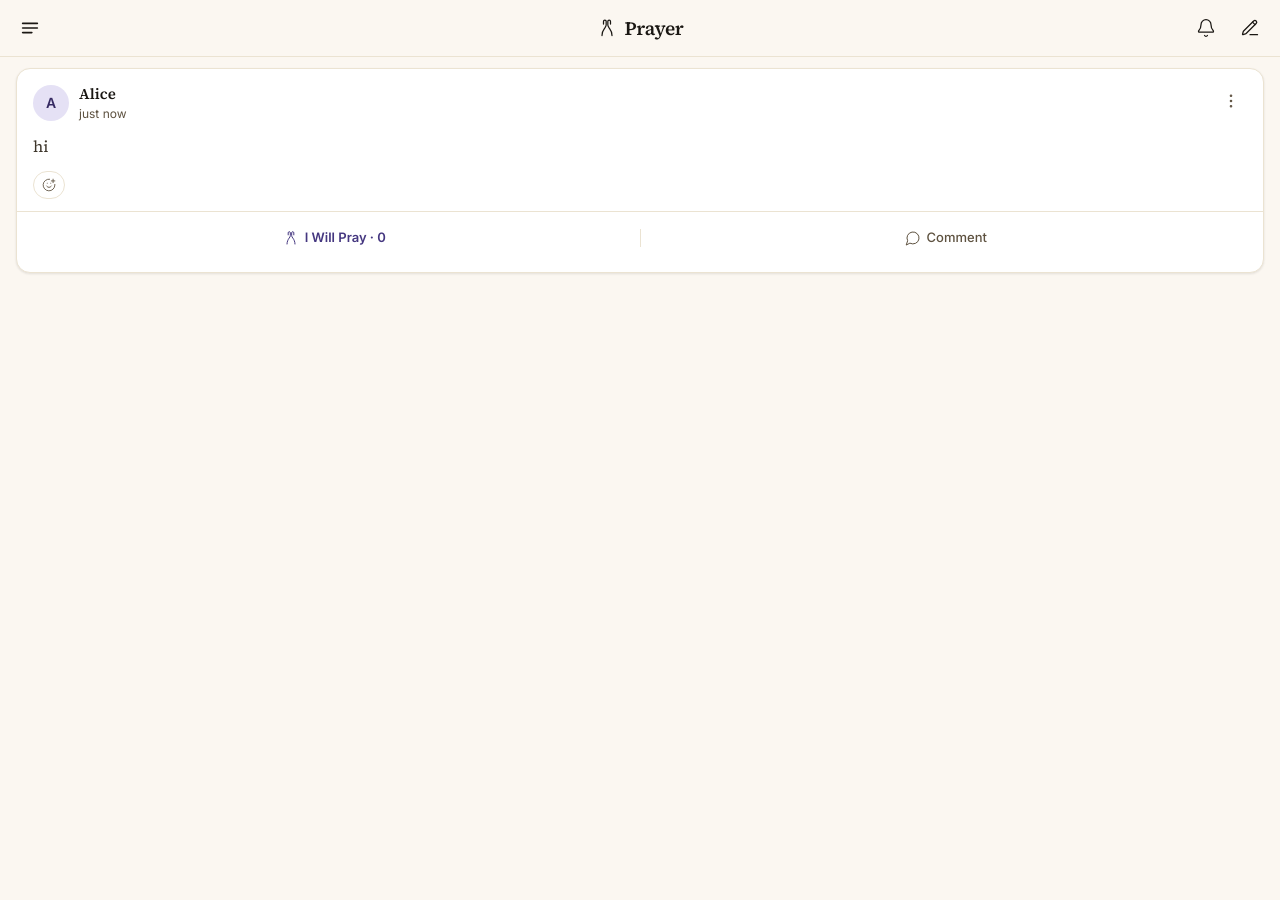
Test: MobileFeedPage › opens the drawer when hamburger is tapped
Step 1. Click the button named "menu" → point(30, 28), box [8,6,52,50]
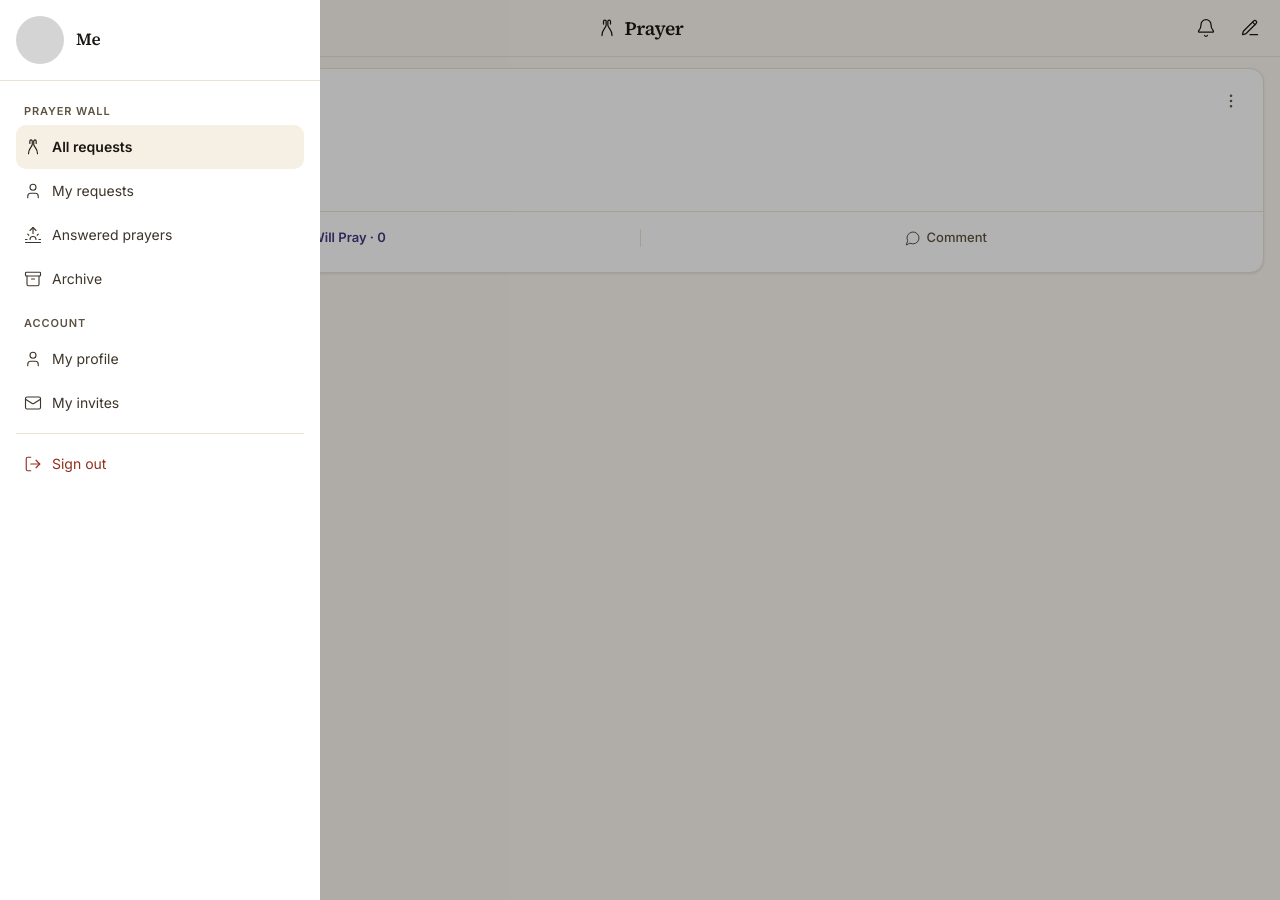
Now the navigation bar named "menu" is shown, box [0,0,320,899]
